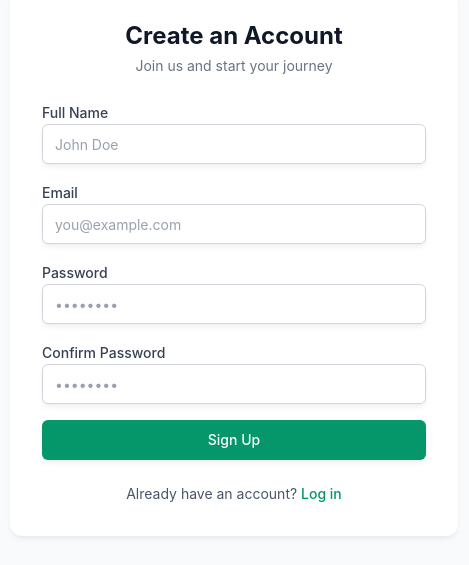
Scenario: Register › shows validation error for invalid email
Step 1. Type "John" into the field labelled "Full Name" → (234, 144), box [42,124,426,164]
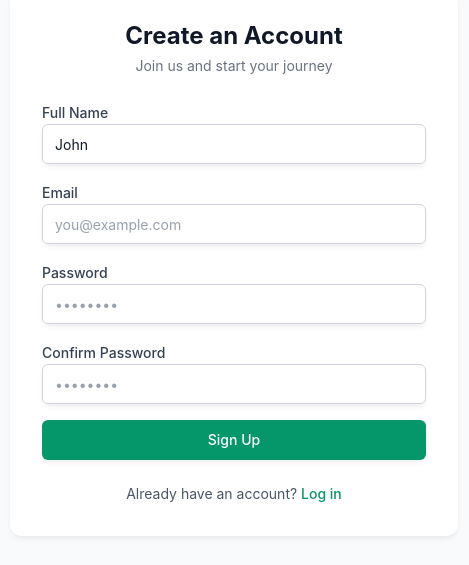
Step 2. Type "bad-email" into the field labelled "Email" → (234, 224), box [42,204,426,244]
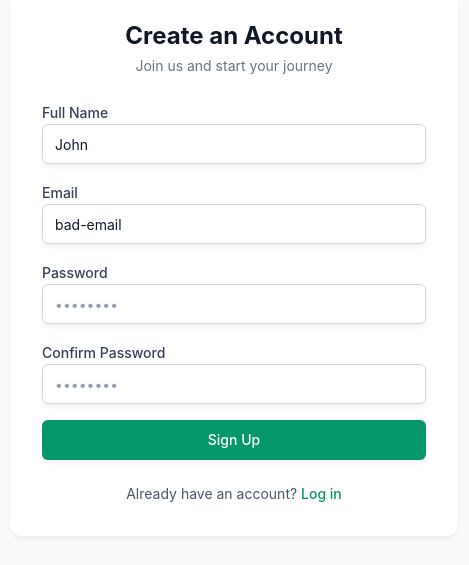
Step 3. Type "password123" into the password field labelled "Password" → (234, 304), box [42,284,426,324]
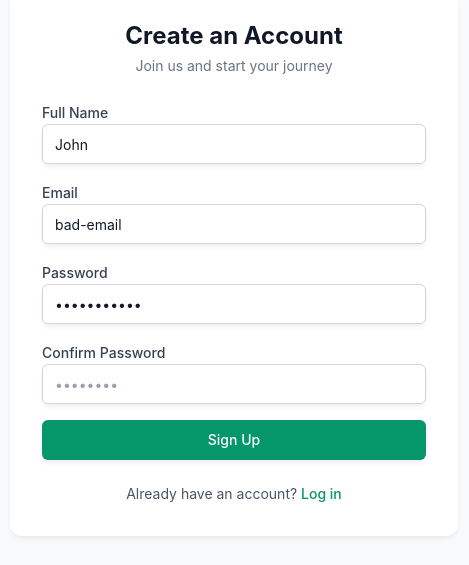
Step 4. Type "password123" into the password field labelled "Confirm Password" → (234, 384), box [42,364,426,404]
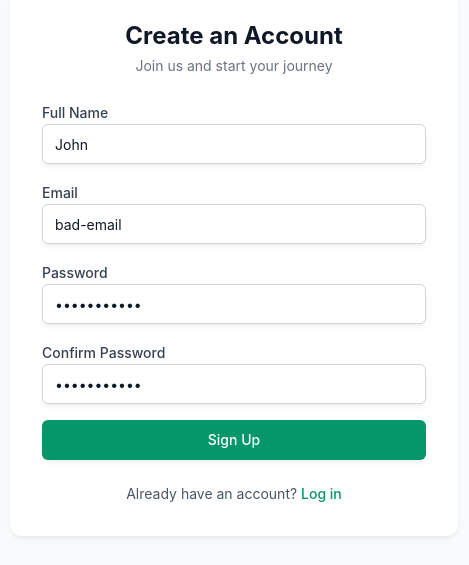
Step 5. Submit the form "Full Name Email Password Confirm Password Sign Up", box [42,100,426,460]
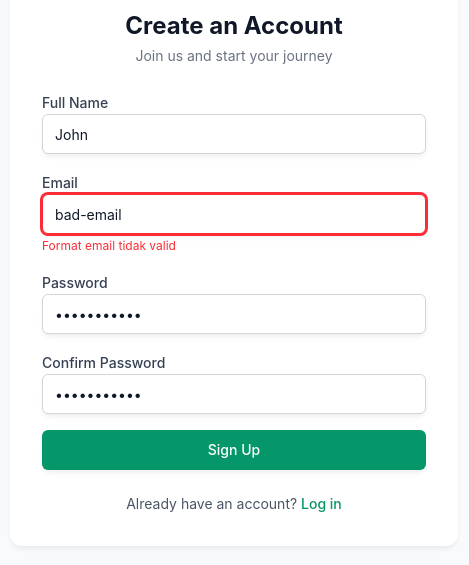
Result: the text "Format email tidak valid" is shown at [42,238,176,253]
